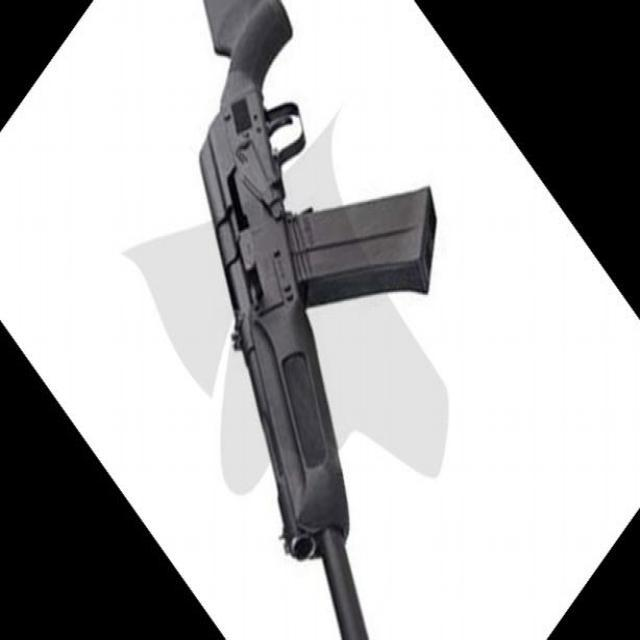weapon: (196, 0, 440, 640)
